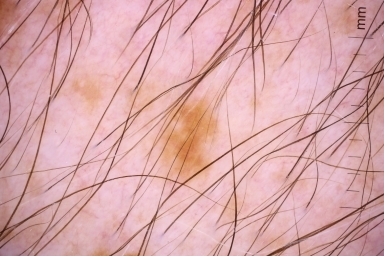nevus: (156, 90, 222, 188), (68, 73, 106, 107)
